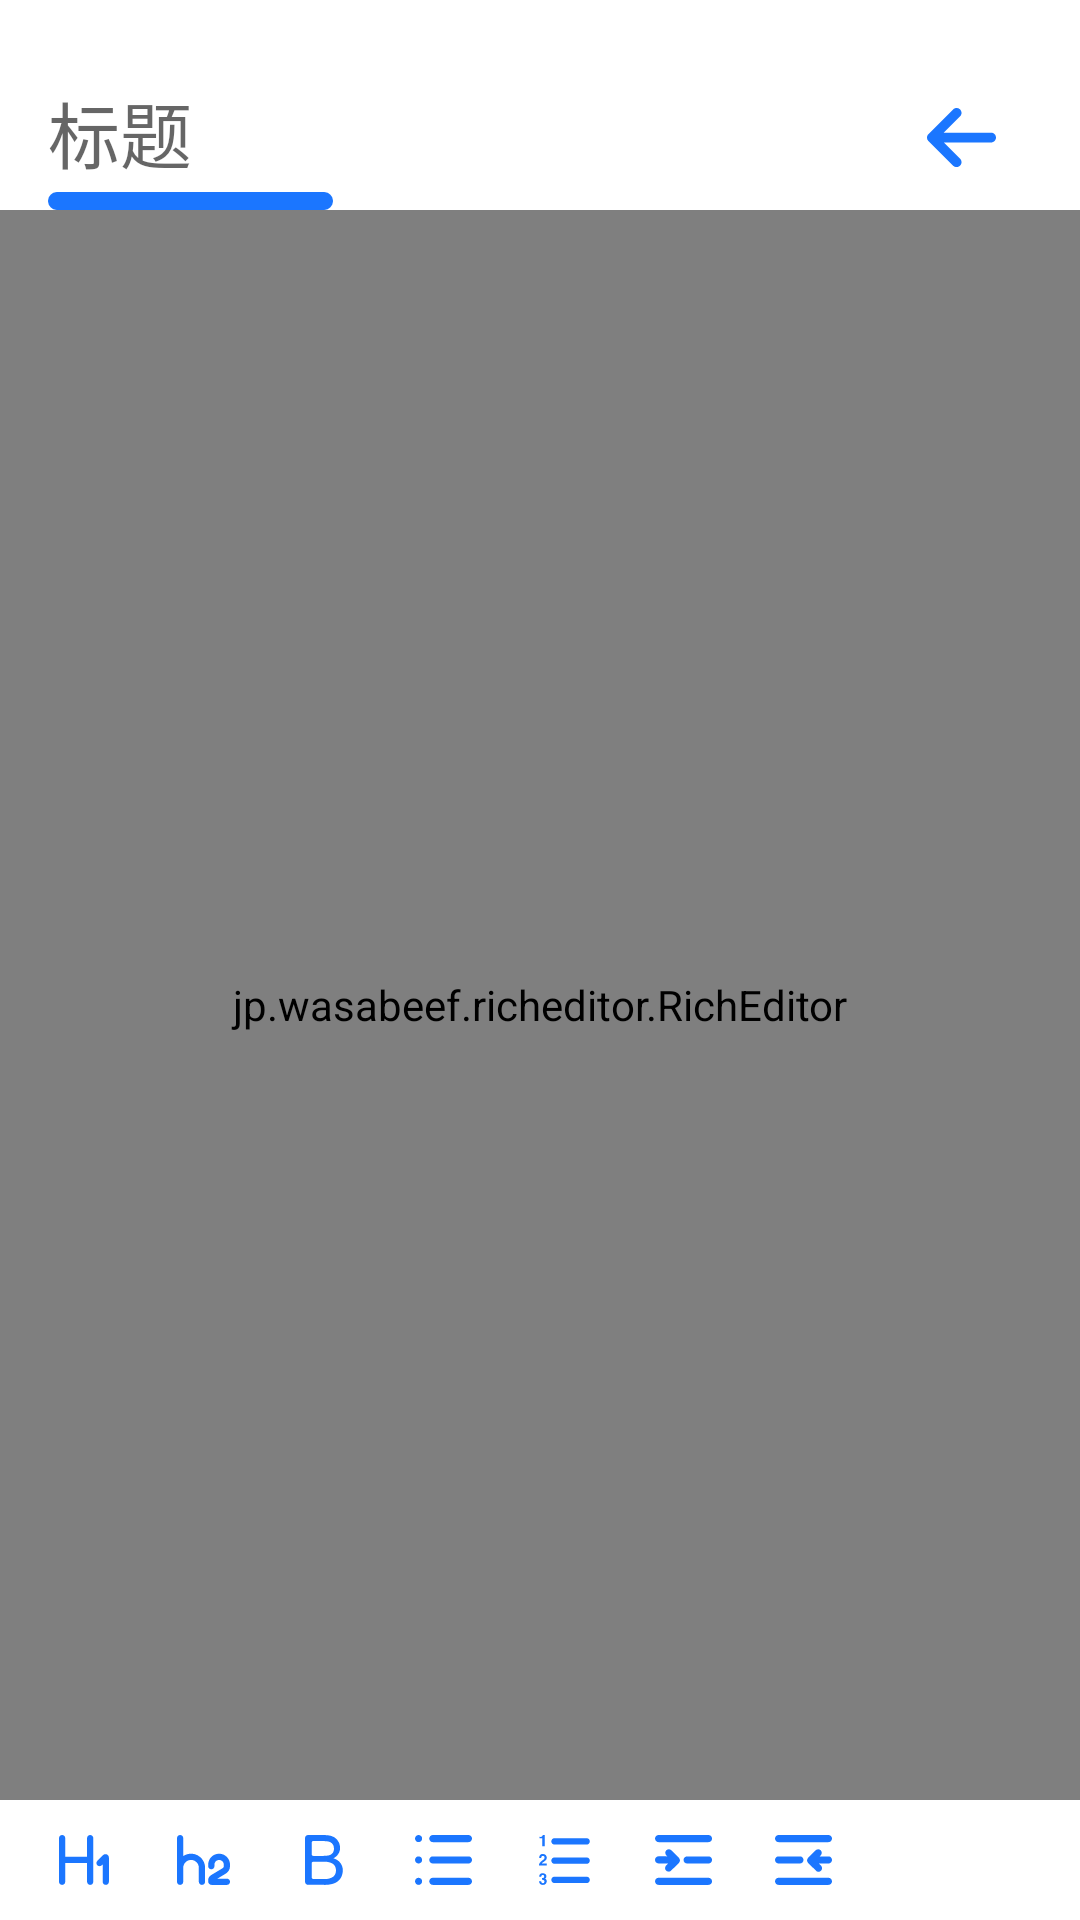

Locate icon controls on the screen. Image size 1080*1920, boxes as (x1, y1, x2, y2).
bullet list: (415, 1835, 472, 1885)
headline: (59, 1835, 109, 1885), (177, 1835, 230, 1885)
indent: (655, 1835, 712, 1885)
no indent: (775, 1835, 832, 1885)
order list: (539, 1835, 590, 1885)
return: (927, 108, 996, 167)
